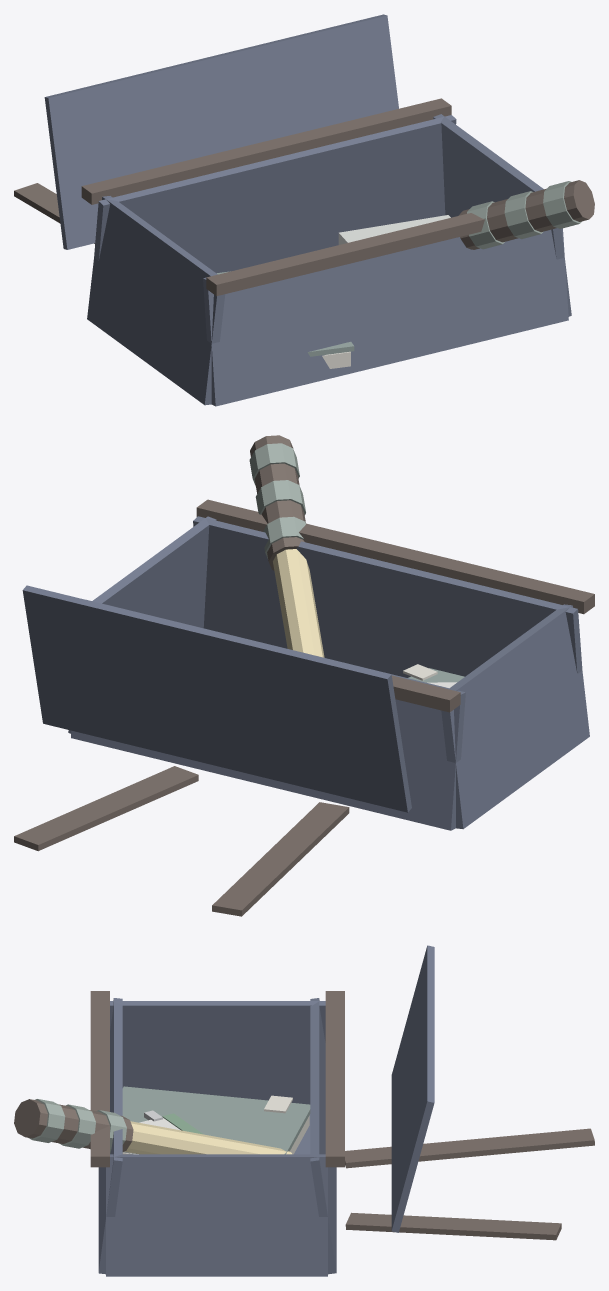
The model's file is Prop_BagKit.fbx.
The picture shows the model from 3 angles, top to bottom: view 1: azimuth 30°, elevation 25°; view 2: azimuth 150°, elevation 25°; view 3: azimuth 270°, elevation 25°; orthographic projection. The views are drawn at different scales.
Parts seen in each view (by area): view 1: Prop_BagKit; view 2: Prop_BagKit; view 3: Prop_BagKit.
Boxes of the visible parts, x1=… form: Prop_BagKit: x1=14, y1=14, x2=594, y2=406; Prop_BagKit: x1=14, y1=435, x2=594, y2=916; Prop_BagKit: x1=14, y1=945, x2=594, y2=1276.
Size of the model in its own units: 54.06 by 25.72 by 78.56.
